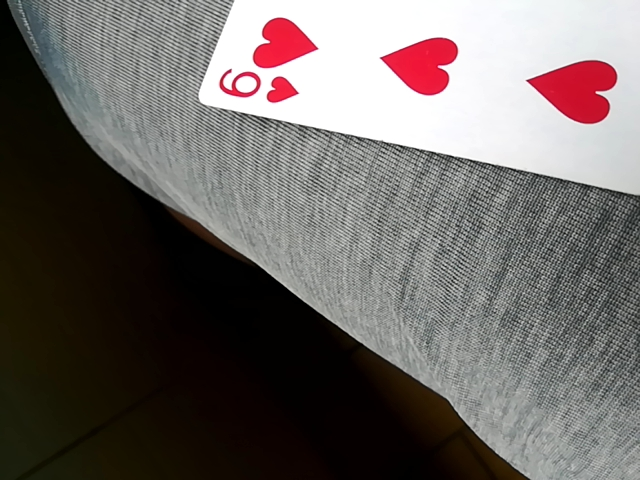hx 6: (206, 1, 634, 194)
